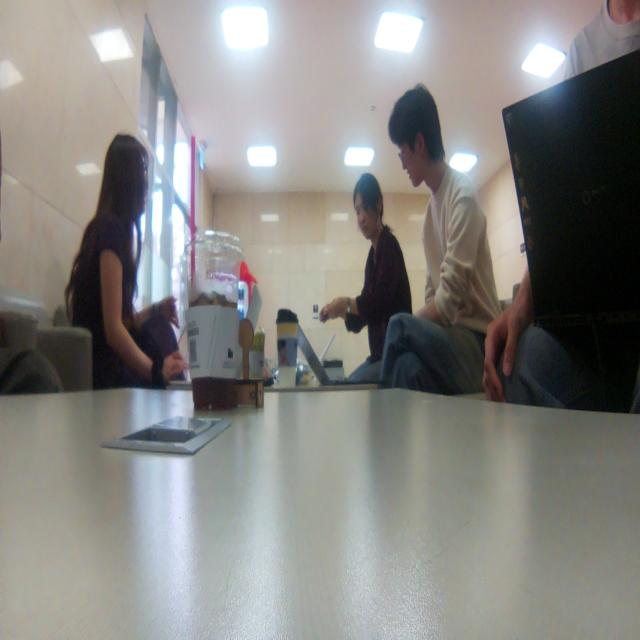target: (236, 315, 265, 409)
